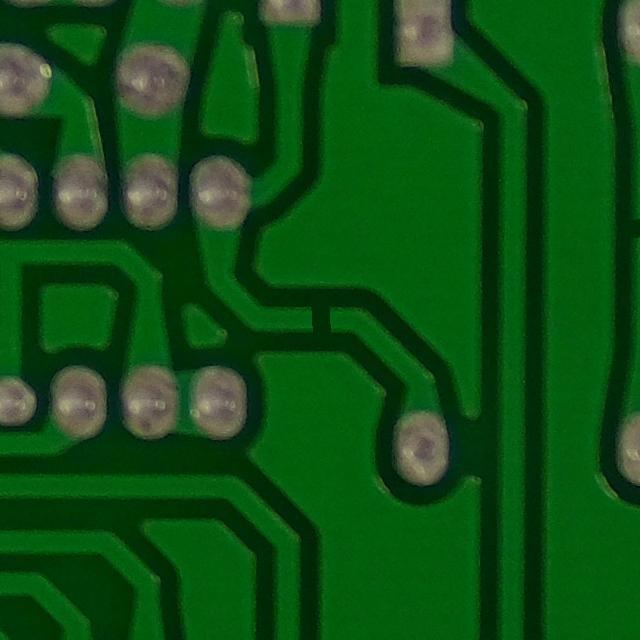open_circuit: (289, 293, 352, 348)
